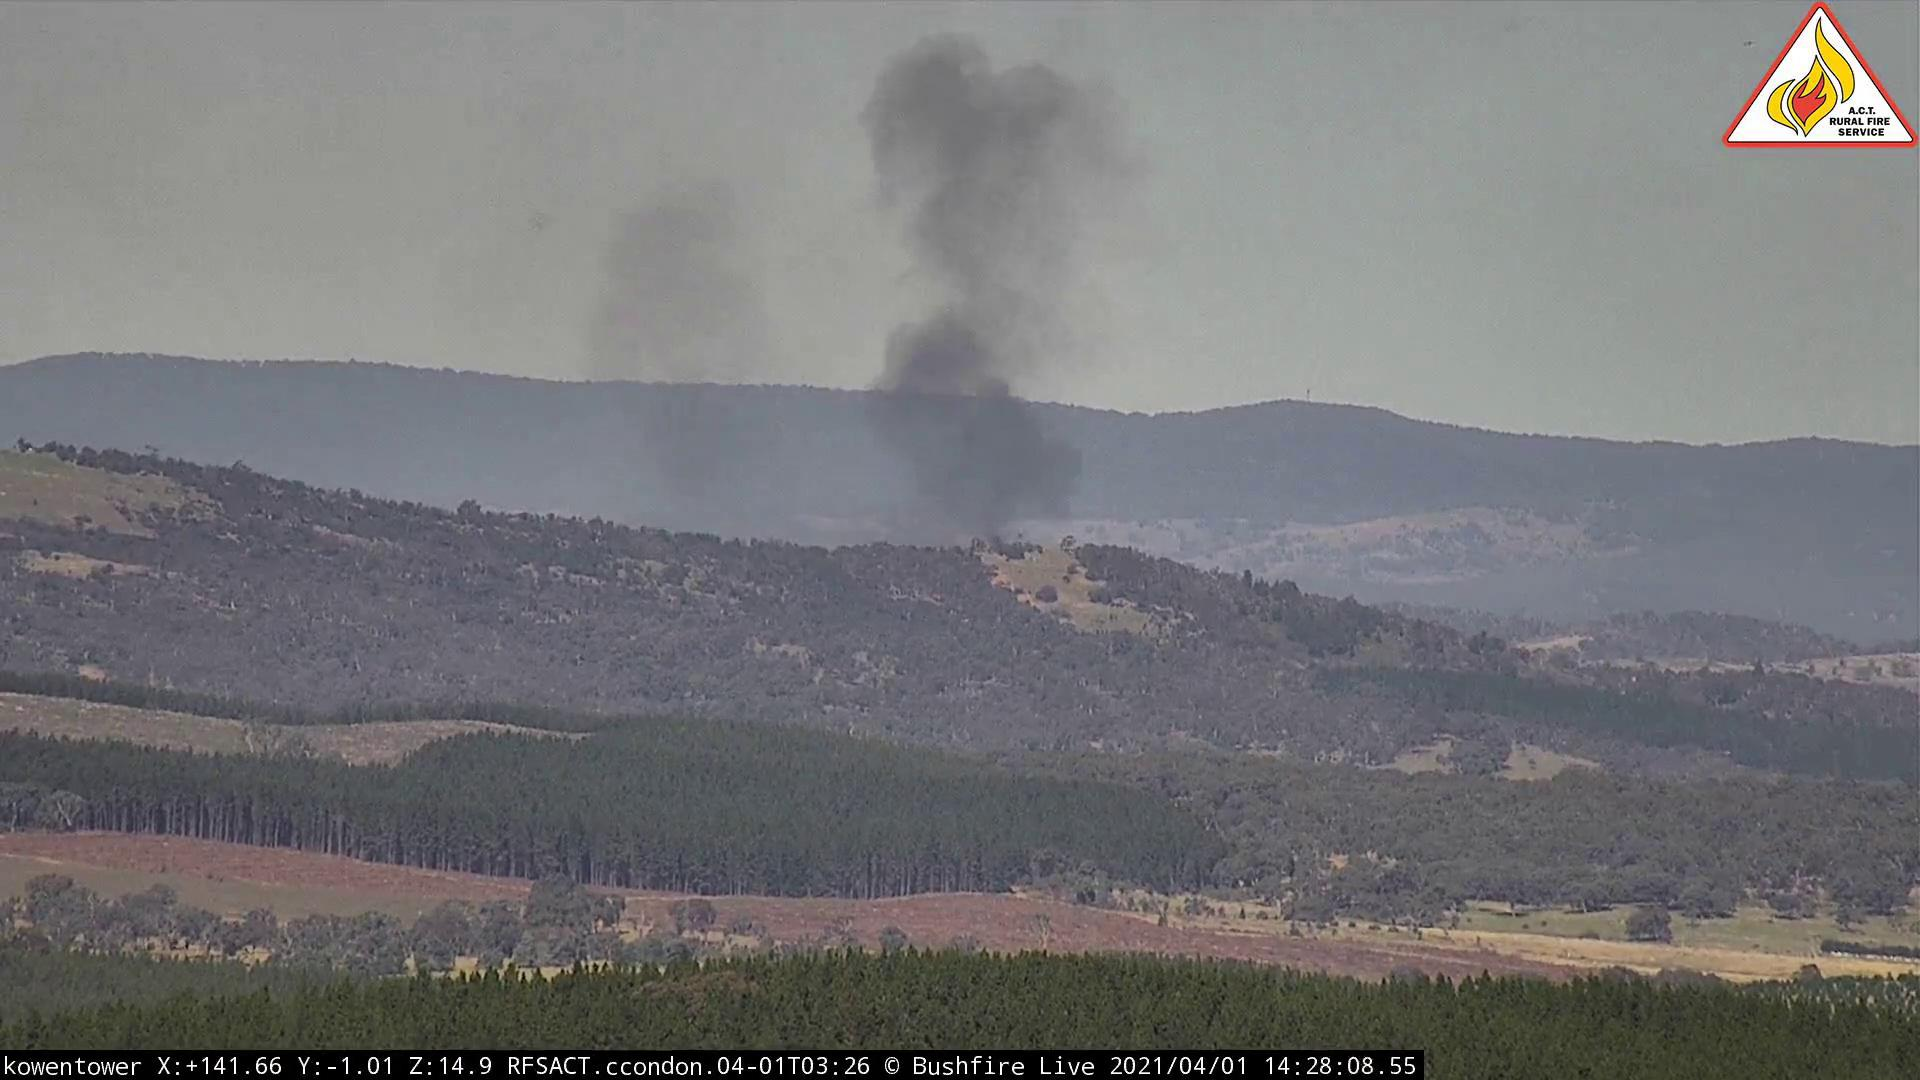instance_salient_object: (814, 20, 1185, 550), (566, 167, 791, 537)
